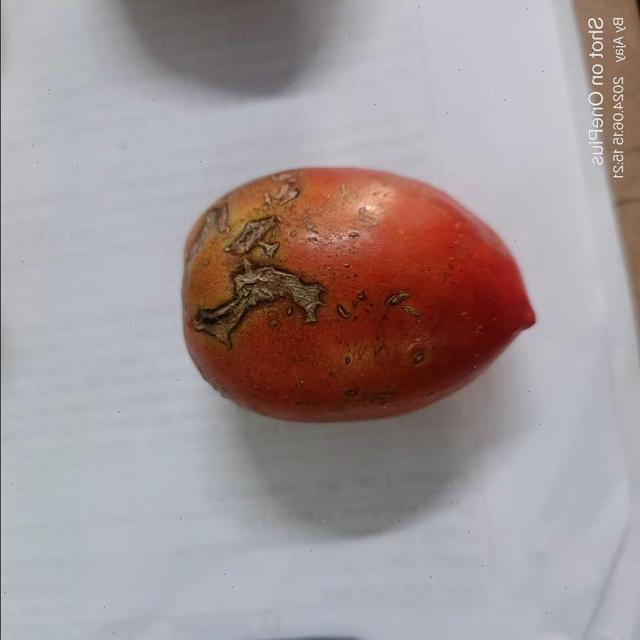Cracking Fruit: (67, 76, 221, 254)
